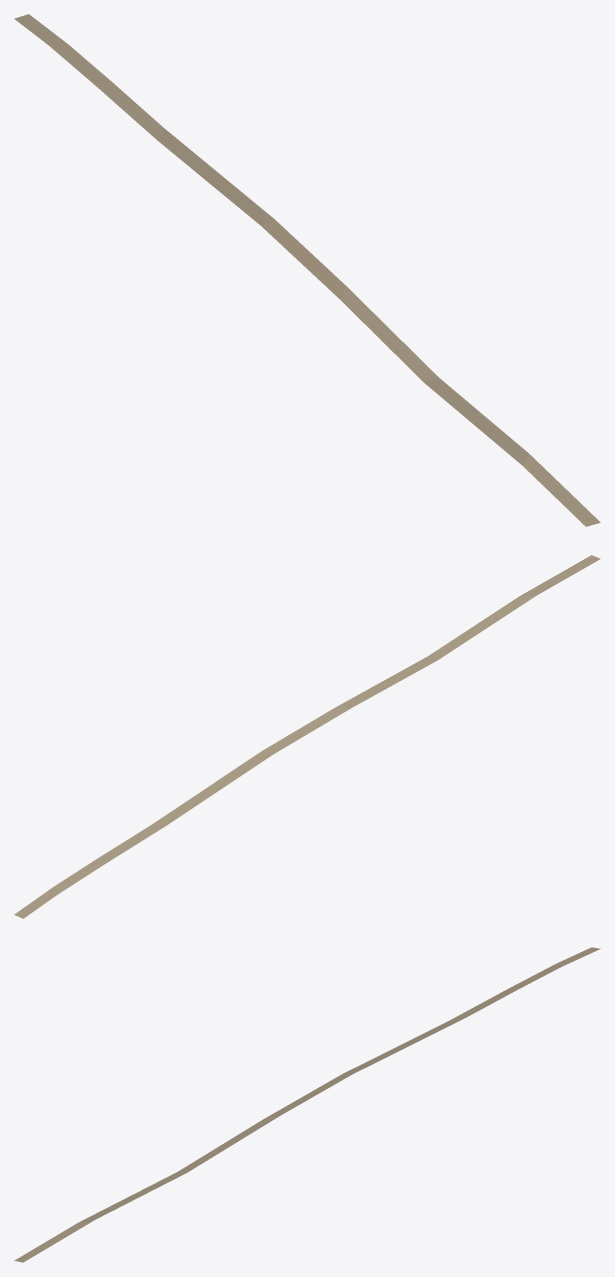
The model's file is farm_-12_6_track.glb.
The picture shows the model from 3 angles, top to bottom: view 1: azimuth 30°, elevation 25°; view 2: azimuth 150°, elevation 25°; view 3: azimuth 330°, elevation 25°; orthographic projection. The views are drawn at different scales.
Parts seen in each view (by area): view 1: geometry_0; view 2: geometry_0; view 3: geometry_0.
Boxes of the visible parts, x1,y1,x2,y2 form: geometry_0: [14, 14, 600, 526]; geometry_0: [14, 555, 600, 918]; geometry_0: [14, 947, 600, 1262].
Bounding box in the file's own units: 32.34 × 7.91 × 280.
